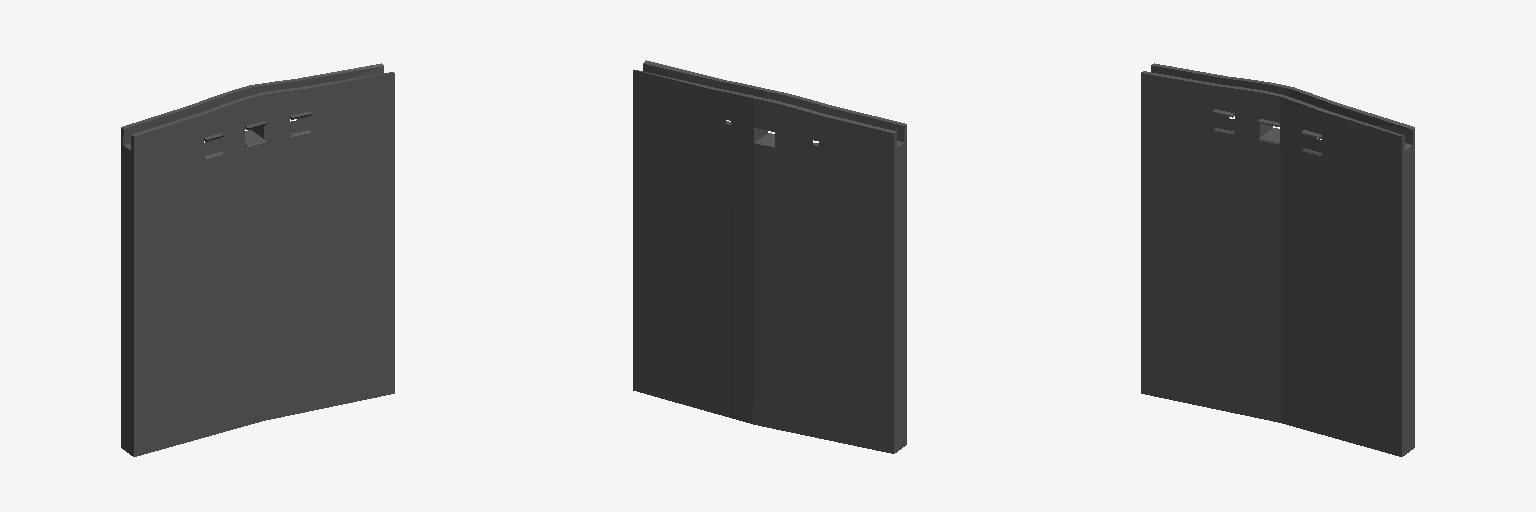
The model's file is presa.obj.
3 views of the same model, side by side, from view 1: azimuth 30°, elevation 25°; view 2: azimuth 150°, elevation 25°; view 3: azimuth 330°, elevation 25° (orthographic).
Visible parts, largest first — view 1: pCube46; view 2: pCube46; view 3: pCube46.
Boxes of the visible parts, x1,y1,x2,y2 form: pCube46: [121, 63, 394, 456]; pCube46: [633, 60, 906, 453]; pCube46: [1141, 63, 1414, 456].
Size of the model in its own units: 254 by 303 by 30.95.